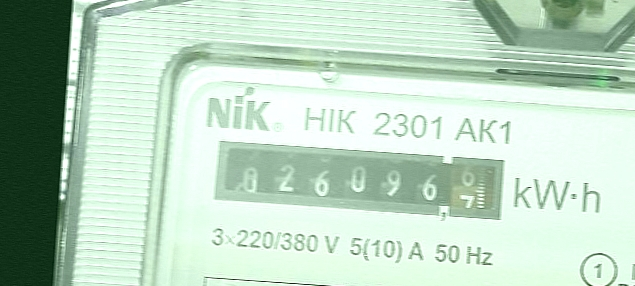0: (345, 160, 368, 196), (237, 160, 259, 193)
2: (273, 159, 297, 195)
6: (310, 163, 331, 199), (418, 167, 438, 202), (456, 160, 477, 188)
7: (456, 189, 475, 211)
9: (381, 165, 402, 198)
screen: (202, 129, 512, 230)
